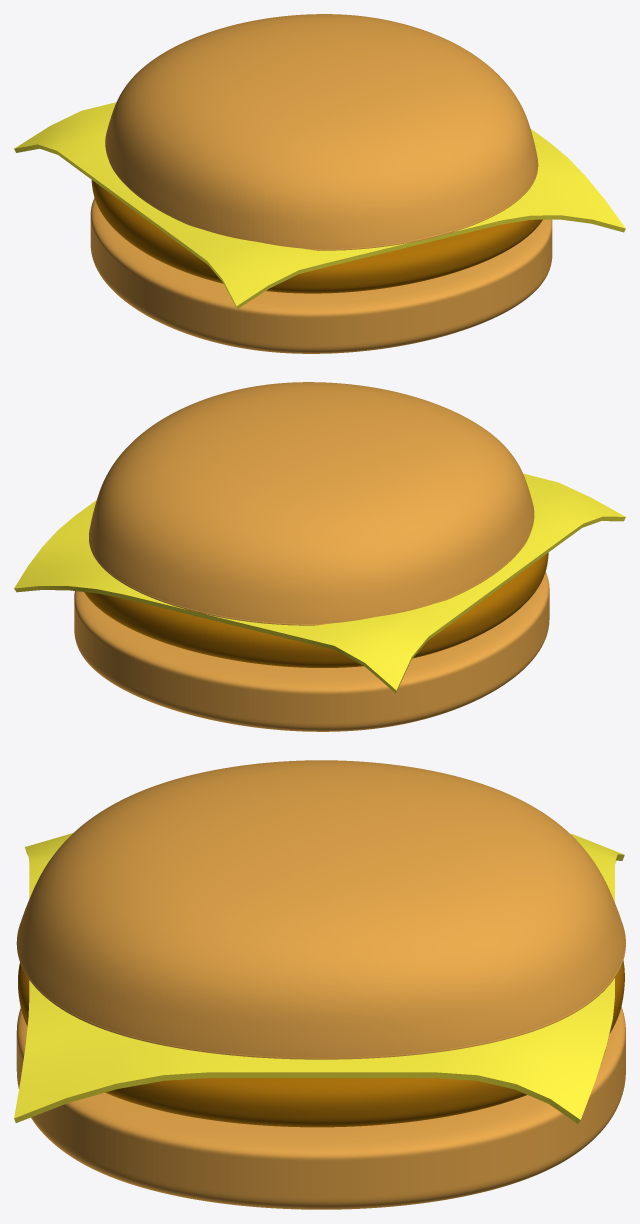
File: Hamburger.glb
The picture shows the model from 3 angles, top to bottom: view 1: azimuth 30°, elevation 25°; view 2: azimuth 150°, elevation 25°; view 3: azimuth 270°, elevation 25°; orthographic projection. The views are drawn at different scales.
Parts seen in each view (by area): view 1: Cube.002, Cube, Plane, Cube.001; view 2: Cube.002, Cube, Plane, Cube.001; view 3: Cube.002, Cube, Plane, Cube.001.
Part boxes in pixels (bbox=[...]): Cube.002: bbox=[105, 14, 538, 250]; Cube: bbox=[90, 198, 552, 353]; Plane: bbox=[14, 102, 625, 309]; Cube.001: bbox=[91, 180, 542, 293]; Cube.002: bbox=[89, 382, 534, 625]; Cube: bbox=[74, 572, 549, 731]; Plane: bbox=[14, 473, 625, 693]; Cube.001: bbox=[84, 552, 548, 667]; Cube.002: bbox=[16, 760, 625, 1059]; Cube: bbox=[16, 1006, 625, 1209]; Plane: bbox=[14, 833, 624, 1123]; Cube.001: bbox=[18, 960, 624, 1127].
Size of the model in its own units: 7.27 by 3.71 by 7.3.
